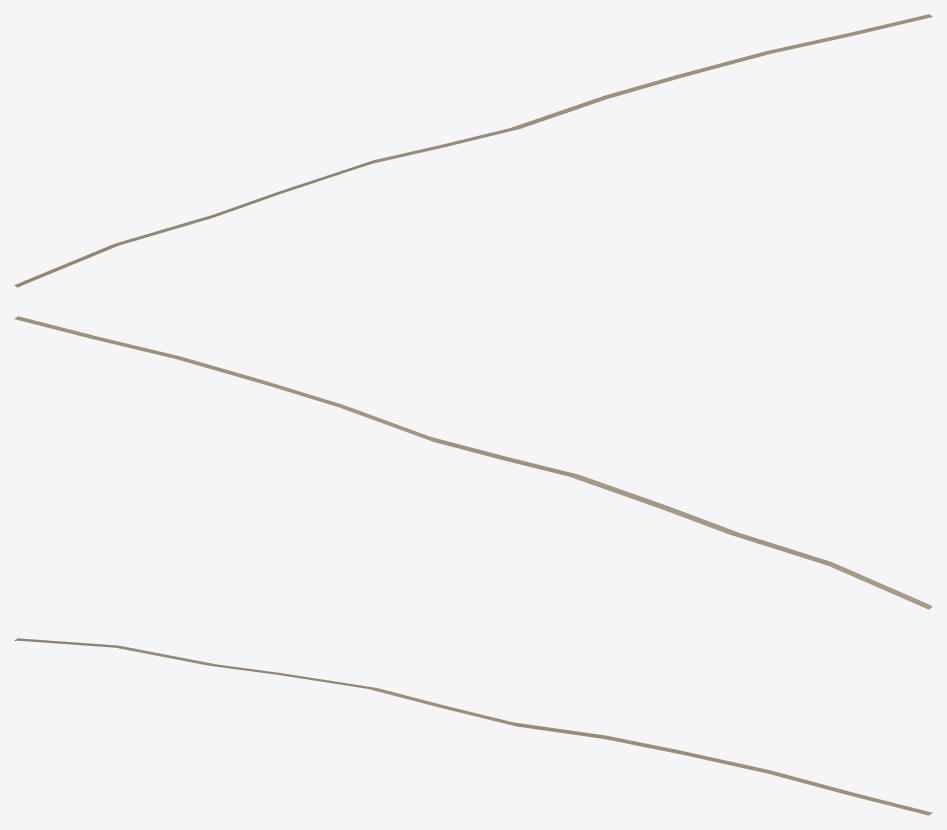
Rendered from farm_-37_-32_track.glb.
The picture shows the model from 3 angles, top to bottom: view 1: azimuth 30°, elevation 25°; view 2: azimuth 150°, elevation 25°; view 3: azimuth 330°, elevation 25°; orthographic projection. The views are drawn at different scales.
Parts seen in each view (by area): view 1: geometry_0; view 2: geometry_0; view 3: geometry_0.
Part boxes in pixels (box(x1,y1,x2,y2)): geometry_0: box(14, 14, 932, 287); geometry_0: box(14, 316, 932, 609); geometry_0: box(14, 638, 932, 815).
Size of the model in its own units: 449 by 27.52 by 11.33.
